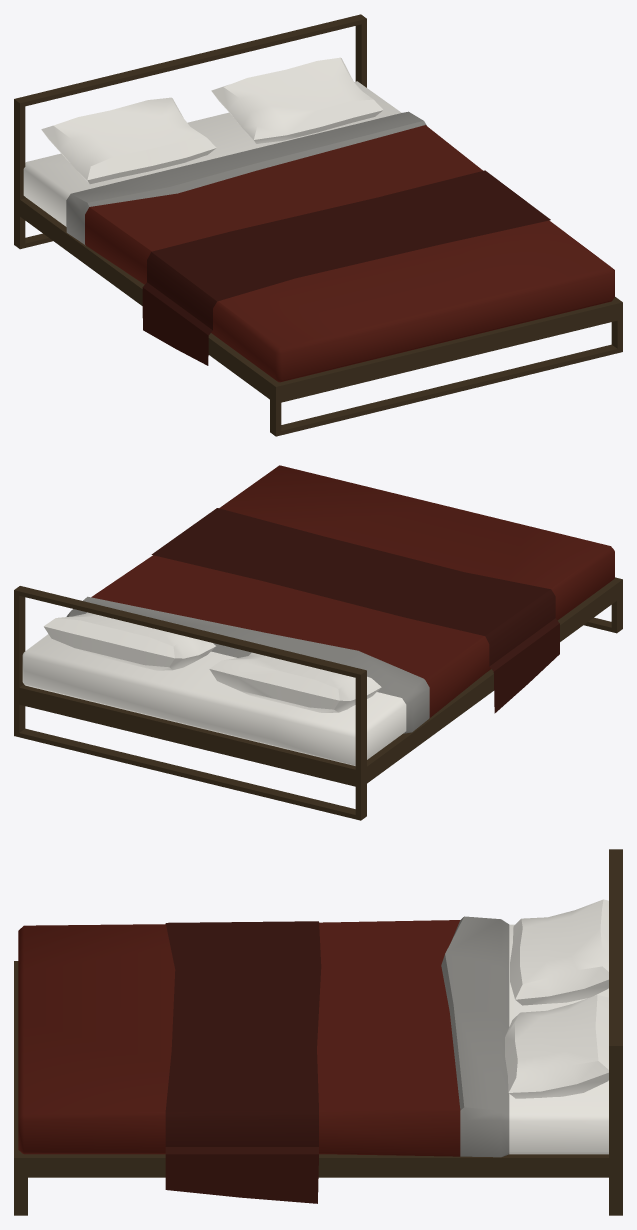
Rendered from q-bed-king.glb.
3 renders of one model, top to bottom at view 1: azimuth 30°, elevation 25°; view 2: azimuth 150°, elevation 25°; view 3: azimuth 270°, elevation 25°, orthographic. The views are drawn at different scales.
Visible parts, largest first — view 1: Bed_King; view 2: Bed_King; view 3: Bed_King.
Boxes of the visible parts, <box> form: Bed_King: <box>14,14,622,436</box>; Bed_King: <box>14,465,622,820</box>; Bed_King: <box>14,849,622,1215</box>.
Bounding box in the file's own units: 3.06 × 1.21 × 3.95.
